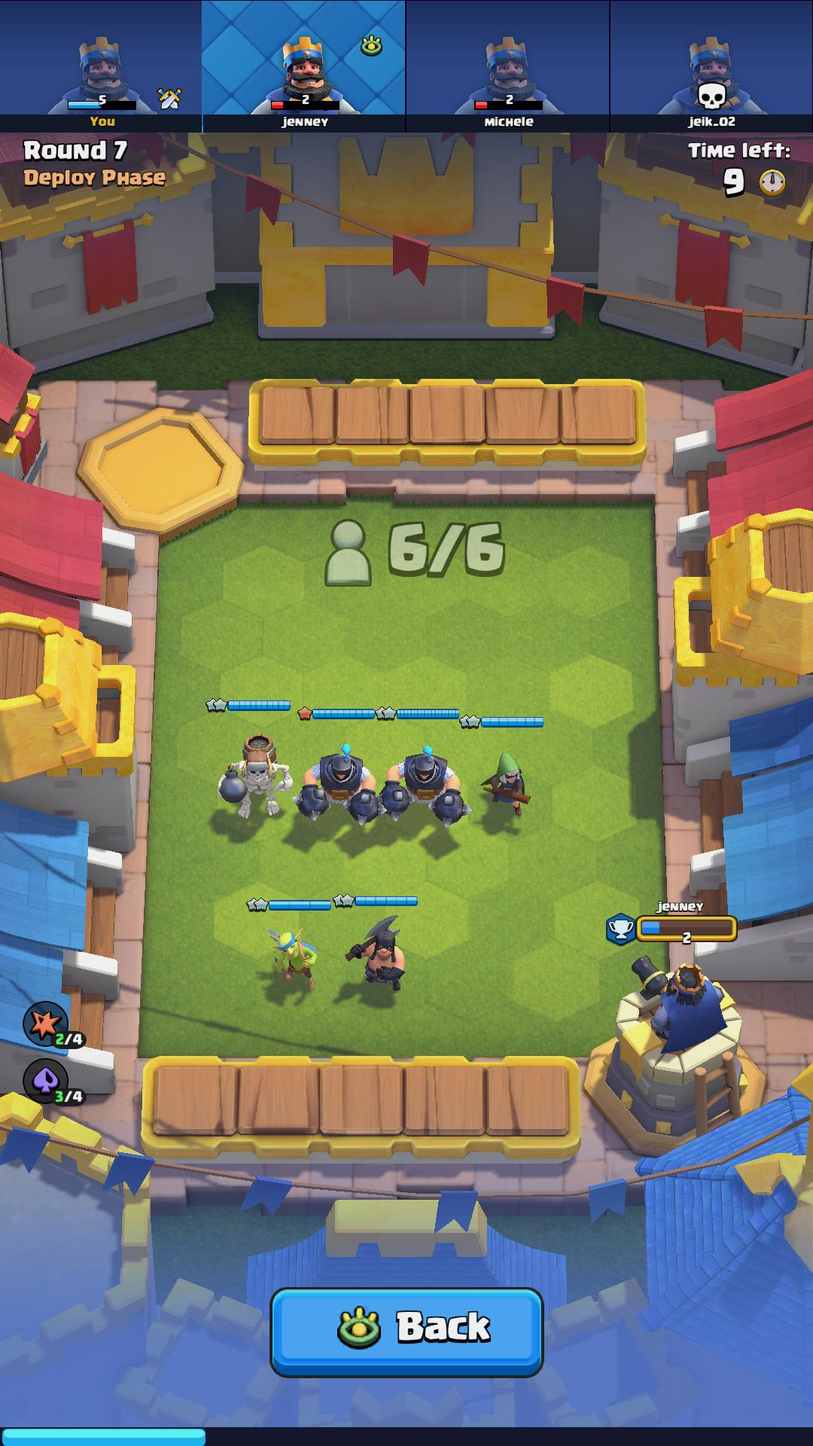bandit: (474, 744, 531, 816)
executioner: (339, 916, 414, 992)
giant: (201, 728, 294, 823)
mega: (294, 743, 384, 833), (379, 744, 468, 832)
spear: (256, 919, 326, 995)
